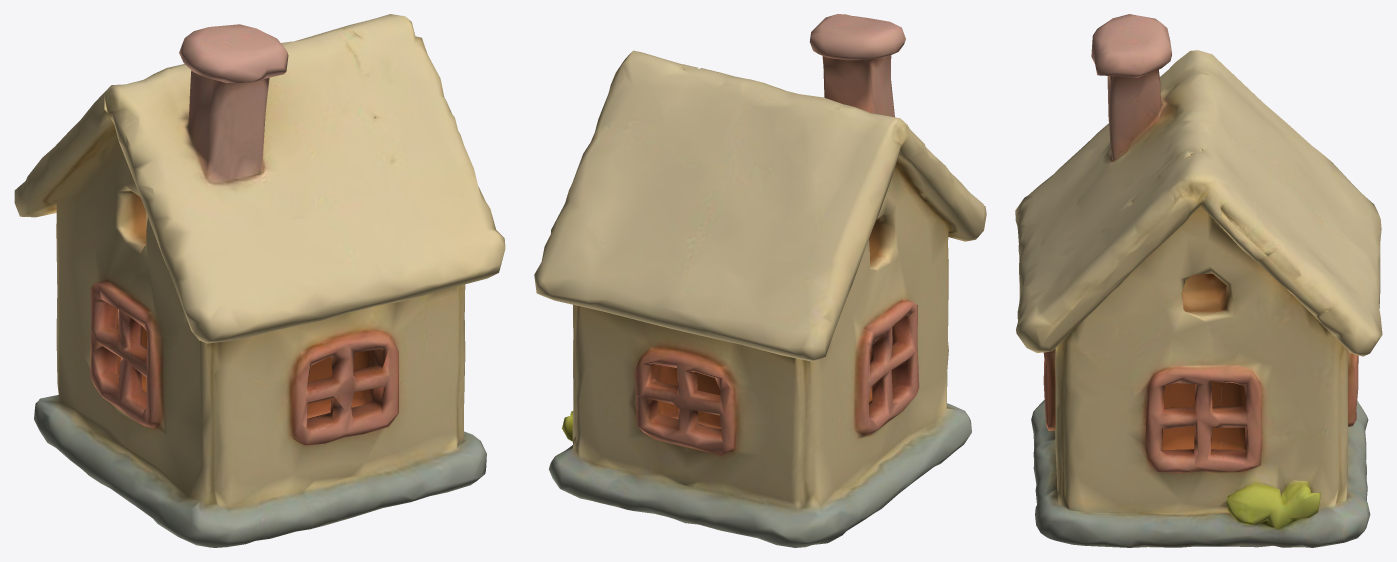
Rendered from house.glb.
3 views of the same model, side by side, from view 1: azimuth 30°, elevation 25°; view 2: azimuth 150°, elevation 25°; view 3: azimuth 270°, elevation 25° (orthographic). The views are drawn at different scales.
Visible parts, largest first — view 1: tripo_node_267e9d5c-d4fa-47ae-a5d9-1d973f27b3e7; view 2: tripo_node_267e9d5c-d4fa-47ae-a5d9-1d973f27b3e7; view 3: tripo_node_267e9d5c-d4fa-47ae-a5d9-1d973f27b3e7.
Boxes of the visible parts, left/top/right/bottom form: tripo_node_267e9d5c-d4fa-47ae-a5d9-1d973f27b3e7: left=14, top=14, right=505, bottom=547; tripo_node_267e9d5c-d4fa-47ae-a5d9-1d973f27b3e7: left=534, top=14, right=986, bottom=547; tripo_node_267e9d5c-d4fa-47ae-a5d9-1d973f27b3e7: left=1015, top=14, right=1382, bottom=547.
Bounding box in the file's own units: 0.7147 × 1 × 0.7833.
Materials: 1 (1 with a texture image).
